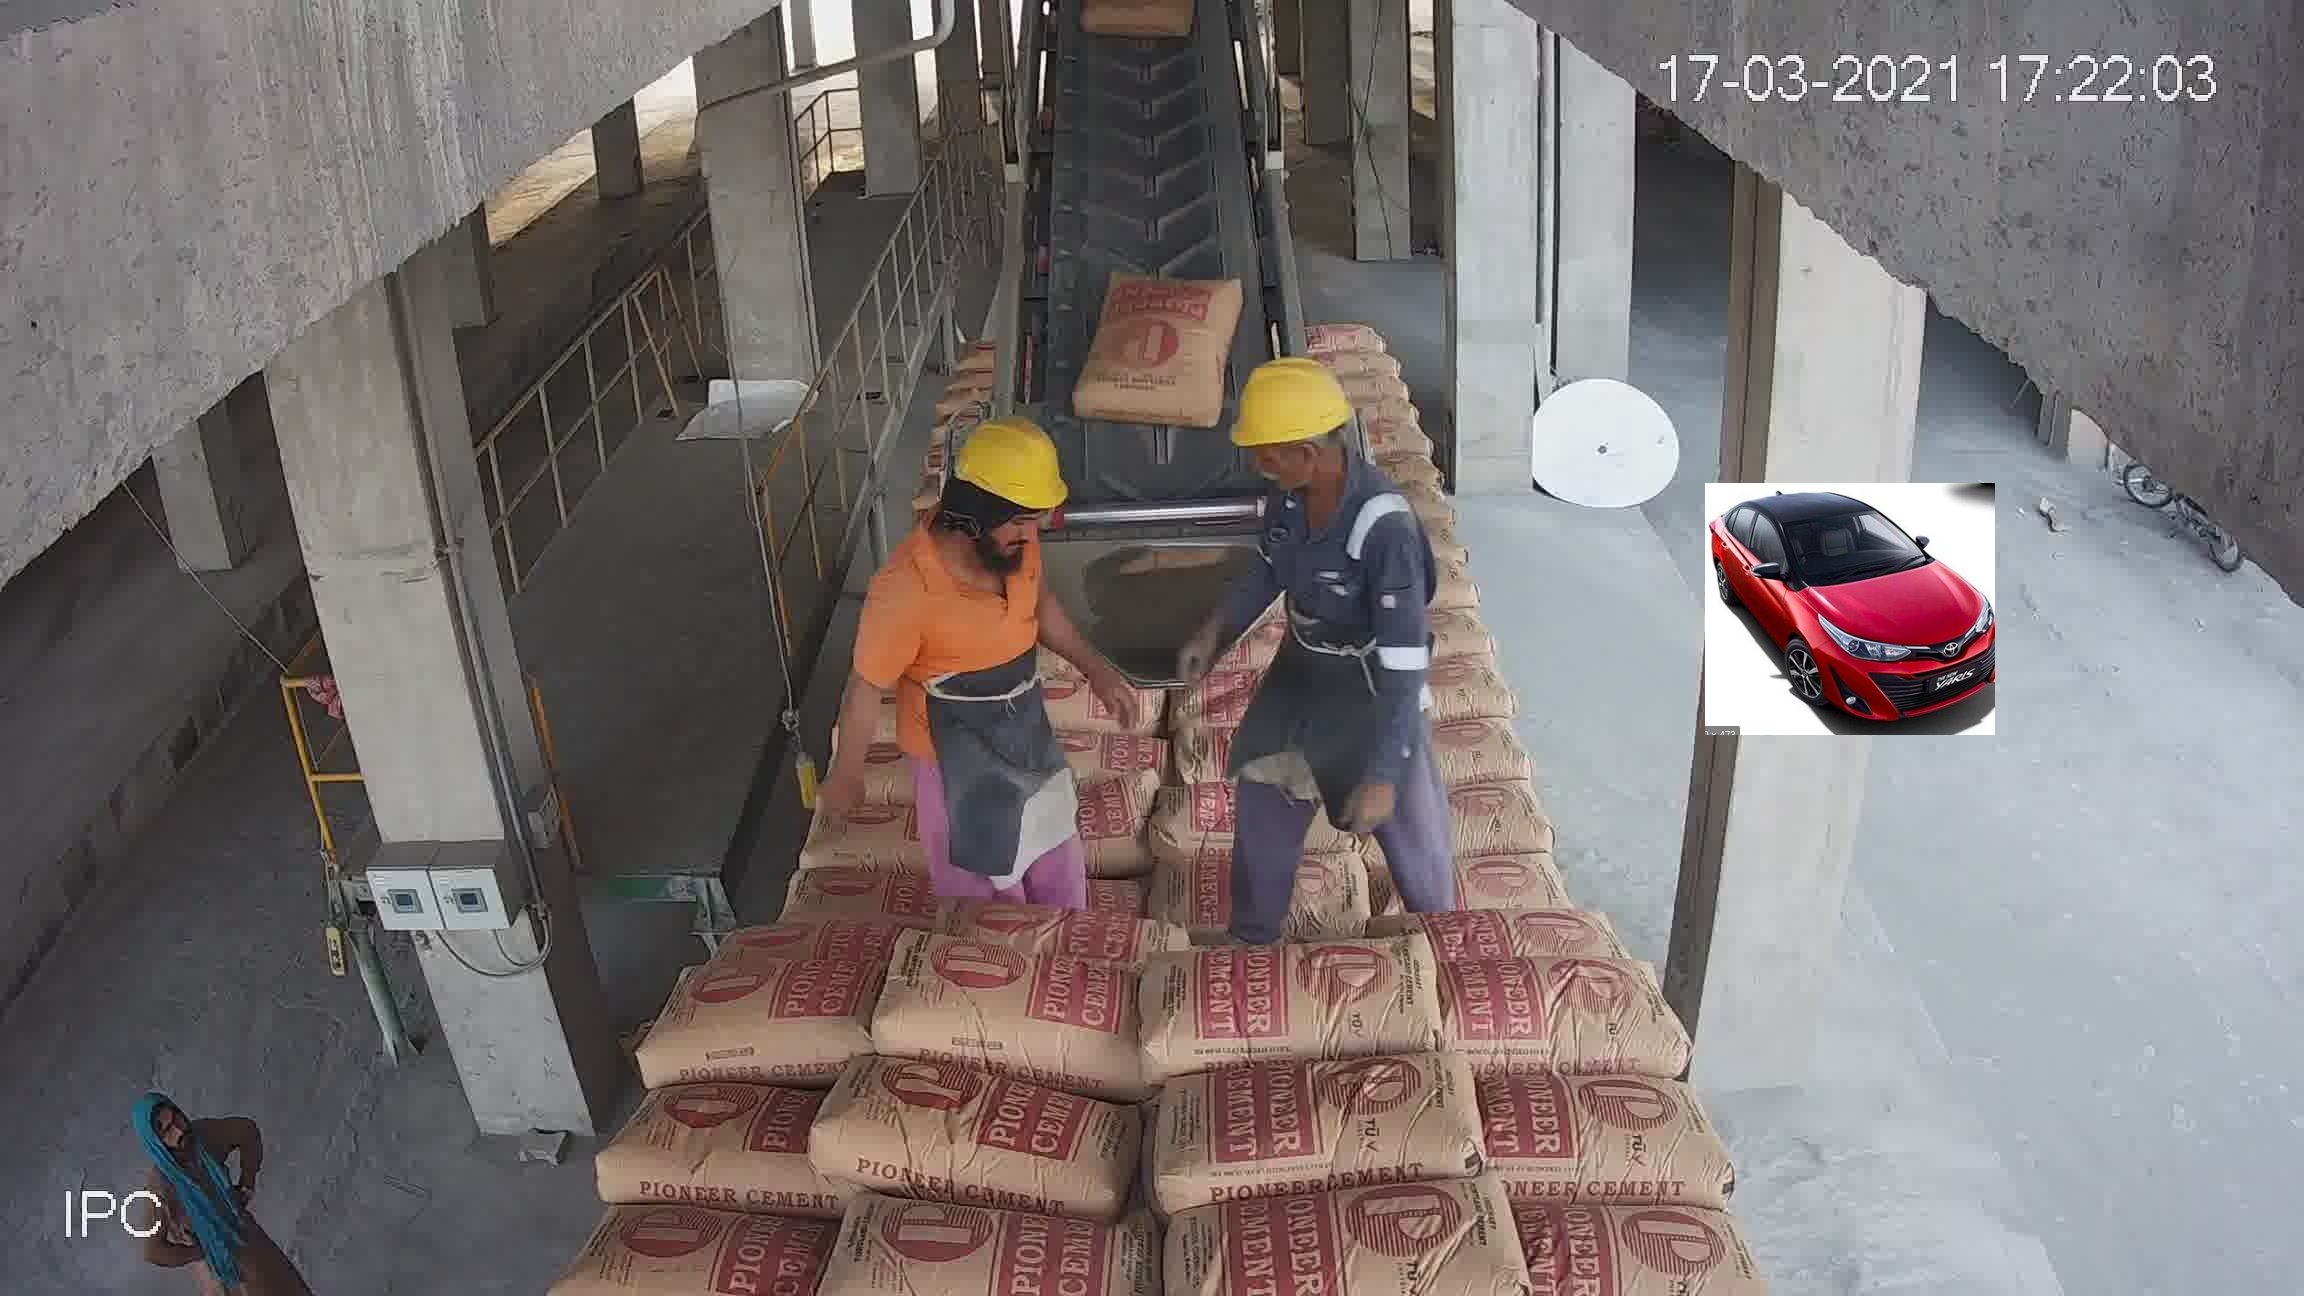bag: (1100, 242, 1228, 397)
bag_h: (1130, 1030, 1472, 1203), (1141, 1152, 1525, 1296), (1146, 940, 1448, 1067), (813, 1065, 1135, 1180), (1136, 720, 1389, 866), (1152, 824, 1423, 961), (635, 946, 899, 1084), (869, 957, 1125, 1082), (829, 1201, 1152, 1296), (1492, 1078, 1723, 1195), (1106, 616, 1366, 718), (601, 1086, 836, 1199), (880, 853, 1131, 959), (1418, 843, 1643, 959), (567, 1196, 831, 1294), (1459, 956, 1666, 1070), (1530, 1204, 1760, 1296), (696, 853, 889, 956), (889, 771, 1144, 845), (1396, 764, 1590, 855), (704, 782, 907, 866), (829, 663, 976, 723), (1386, 654, 1491, 725), (1380, 711, 1510, 766), (771, 737, 945, 779), (851, 623, 949, 679), (1351, 525, 1465, 567), (1389, 565, 1483, 609), (1340, 411, 1421, 453), (1369, 441, 1423, 487), (1386, 623, 1478, 649), (1347, 388, 1412, 415), (1348, 348, 1404, 378)
belt: (992, 17, 1301, 529)
